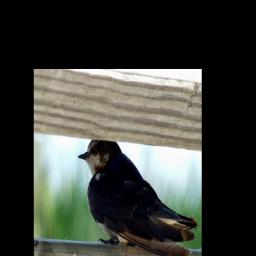Swallow: (77, 138, 198, 256)
